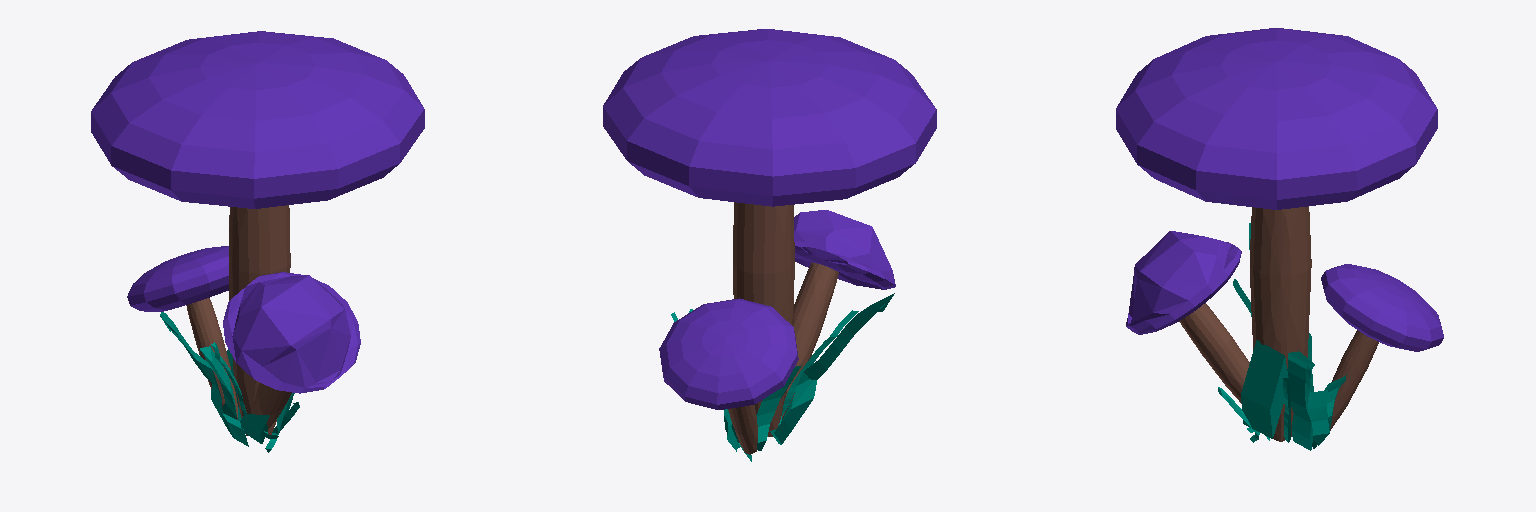
3 renders of one model, left to right at view 1: azimuth 30°, elevation 25°; view 2: azimuth 150°, elevation 25°; view 3: azimuth 270°, elevation 25°, orthographic.
Visible parts, largest first — view 1: group[number redacted], group[number redacted], group[number redacted], group[number redacted], group[number redacted], group[number redacted], group[number redacted], group[number redacted], group[number redacted]; view 2: group[number redacted], group[number redacted], group[number redacted], group[number redacted], group[number redacted], group[number redacted], group[number redacted], group[number redacted], group[number redacted]; view 3: group[number redacted], group[number redacted], group[number redacted], group[number redacted], group[number redacted], group[number redacted], group[number redacted], group[number redacted], group[number redacted].
Boxes of the visible parts, box(x1,y1,x2,y2) form: group[number redacted]: box(91, 31, 424, 208); group[number redacted]: box(223, 272, 360, 393); group[number redacted]: box(229, 205, 290, 435); group[number redacted]: box(127, 246, 228, 311); group[number redacted]: box(186, 298, 237, 419); group[number redacted]: box(160, 312, 248, 446); group[number redacted]: box(252, 383, 291, 428); group[number redacted]: box(200, 346, 236, 418); group[number redacted]: box(240, 414, 269, 443); group[number redacted]: box(603, 29, 936, 206); group[number redacted]: box(659, 298, 798, 409); group[number redacted]: box(733, 202, 794, 436); group[number redacted]: box(794, 210, 895, 289); group[number redacted]: box(782, 262, 838, 418); group[number redacted]: box(770, 293, 894, 444); group[number redacted]: box(728, 405, 757, 454); group[number redacted]: box(756, 365, 801, 450); group[number redacted]: box(778, 310, 858, 426); group[number redacted]: box(1116, 28, 1437, 209); group[number redacted]: box(1250, 206, 1311, 441); group[number redacted]: box(1126, 231, 1241, 334); group[number redacted]: box(1321, 264, 1443, 351); group[number redacted]: box(1241, 340, 1288, 438); group[number redacted]: box(1179, 303, 1249, 403); group[number redacted]: box(1330, 330, 1378, 430); group[number redacted]: box(1287, 351, 1314, 450); group[number redacted]: box(1308, 390, 1329, 445).
Bounding box in the file's own units: 0.4288 × 0.5443 × 0.4173.